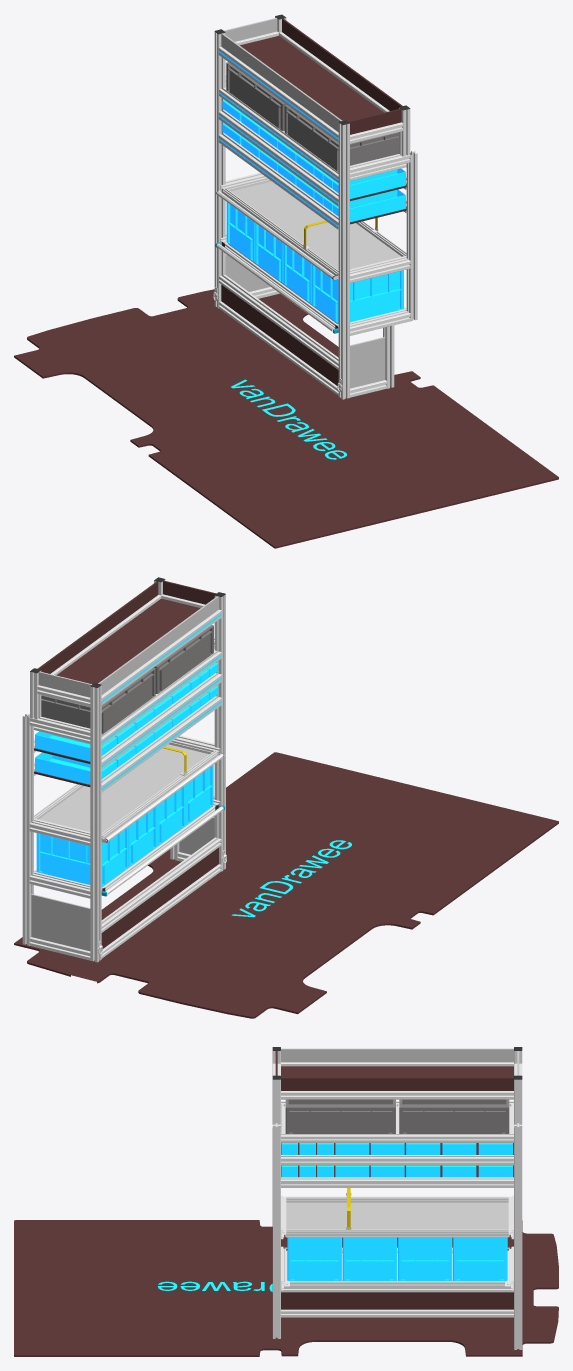
The model's file is vd_export_regalova_vestavba_ford_transit_l2h2_fwd_4e3a5fee.glb.
3 views of the same model, one above another, from view 1: azimuth 30°, elevation 25°; view 2: azimuth 150°, elevation 25°; view 3: azimuth 270°, elevation 25° (orthographic). The views are drawn at different scales.
Visible parts, largest first — view 1: SomeName002_Mesh_2028_2, blue_klt, 45x45x1600_noha (×2), CUB6_1215x413, Multibox_Arc (×2), PR10_1266x306, 45x45x1267_Zx2 (×3), box6417_2, CUB10_395x260 (×2), PR10_1291x130, 45x45x970_noha, CUB10_1292x89 (+14 smaller); view 2: SomeName002_Mesh_2028_2, blue_klt, 45x45x1600_noha (×2), CUB6_1215x413, Multibox_Arc (×2), PR10_1266x306, 45x45x1267_Zx2 (×3), CUB10_395x260 (×2), box6417, 45x45x1330_noha, PR10_1291x130, CUB10_1292x89 (+14 smaller); view 3: SomeName002_Mesh_2028_2, blue_klt, 45x45x1267_Zx2_2 (×3), CUB6_1215x413, Multibox_Arc (×2), PR10_1291x130, box6417, box6417_2, CUB10_1292x89, PR10_1292x89, PR10_1266x306, SL_40x40_1267_Zx2_2 (+11 smaller).
Boxes of the visible parts, box(x1,y1,x2,y2) form: SomeName002_Mesh_2028_2: box(14, 289, 558, 548); blue_klt: box(226, 202, 403, 323); 45x45x1600_noha (×2): box(214, 32, 349, 399); CUB6_1215x413: box(231, 181, 401, 269); Multibox_Arc (×2): box(222, 100, 405, 222); PR10_1266x306: box(240, 36, 383, 121); 45x45x1267_Zx2 (×3): box(218, 32, 389, 229); box6417_2: box(284, 105, 398, 171); CUB10_395x260 (×2): box(225, 254, 385, 388); PR10_1291x130: box(221, 284, 338, 385); 45x45x970_noha: box(406, 151, 417, 321); CUB10_1292x89: box(221, 33, 342, 132); SomeName002_Mesh_2028_2: box(14, 752, 558, 1018); blue_klt: box(36, 765, 213, 886); 45x45x1600_noha (×2): box(90, 594, 225, 962); CUB6_1215x413: box(39, 744, 208, 832); Multibox_Arc (×2): box(35, 662, 218, 784); PR10_1266x306: box(56, 598, 200, 684); 45x45x1267_Zx2 (×3): box(51, 595, 221, 792); CUB10_395x260 (×2): box(31, 817, 214, 951); box6417: box(41, 667, 155, 734); 45x45x1330_noha: box(22, 714, 33, 945); PR10_1291x130: box(101, 847, 218, 948); CUB10_1292x89: box(98, 596, 218, 694); SomeName002_Mesh_2028_2: box(14, 1220, 558, 1356); blue_klt: box(287, 1237, 507, 1280); 45x45x1267_Zx2_2 (×3): box(281, 1062, 513, 1187); CUB6_1215x413: box(285, 1202, 509, 1235); Multibox_Arc (×2): box(281, 1143, 512, 1177); PR10_1291x130: box(281, 1292, 513, 1309); box6417: box(399, 1099, 509, 1133); box6417_2: box(285, 1099, 395, 1133); CUB10_1292x89: box(281, 1048, 513, 1062); PR10_1292x89: box(281, 1077, 513, 1090); PR10_1266x306: box(281, 1066, 513, 1077); SL_40x40_1267_Zx2_2: box(281, 1133, 513, 1142).
Bounding box in the file's own units: 1737 × 1619 × 2960.
